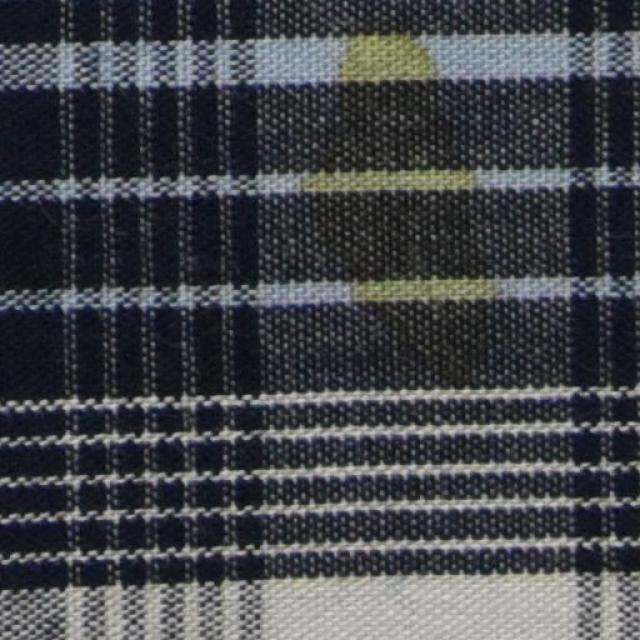Stain: (294, 22, 511, 382)
